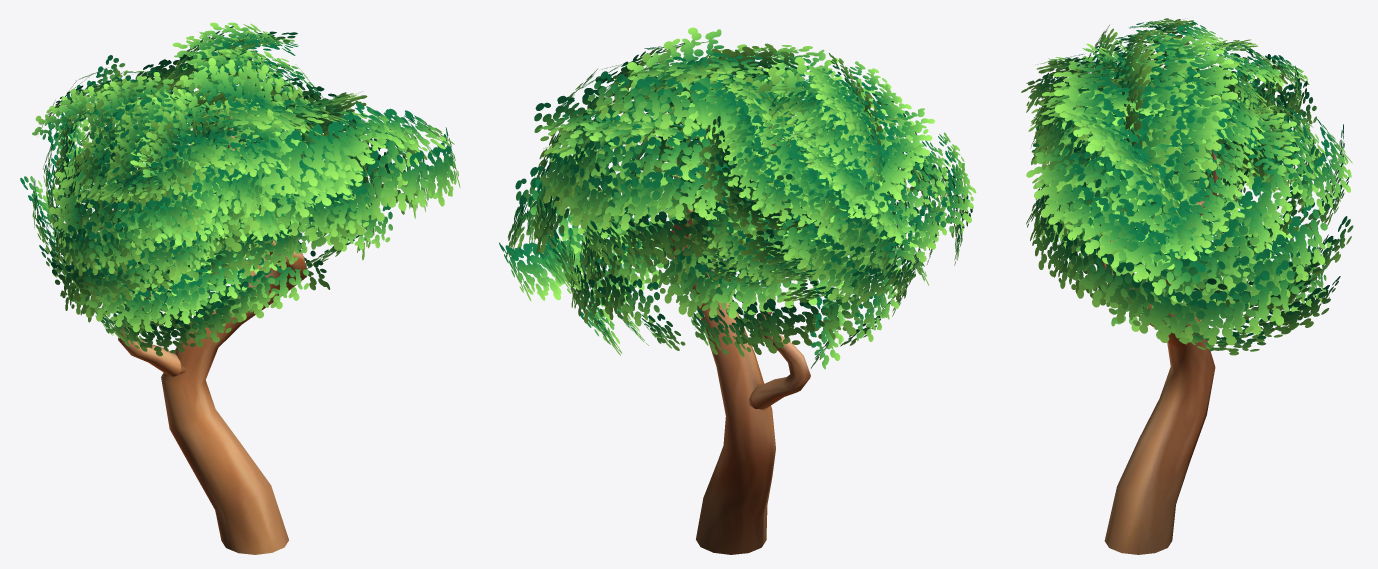
File: arvore-stylized.glb
3 renders of one model, left to right at view 1: azimuth 30°, elevation 25°; view 2: azimuth 150°, elevation 25°; view 3: azimuth 270°, elevation 25°, orthographic. The views are drawn at different scales.
Parts seen in each view (by area): view 1: Object_6, Object_4; view 2: Object_6, Object_4; view 3: Object_6, Object_4.
Part boxes in pixels (x1,y1,x2,y2): Object_6: (20,22,460,356); Object_4: (118,100,306,554); Object_6: (499,27,976,369); Object_4: (670,92,810,554); Object_6: (1021,18,1353,355); Object_4: (1100,116,1217,554).
Bounding box in the file's own units: 2.83 × 3.23 × 2.09.
Materials: 2 (2 with a texture image).
